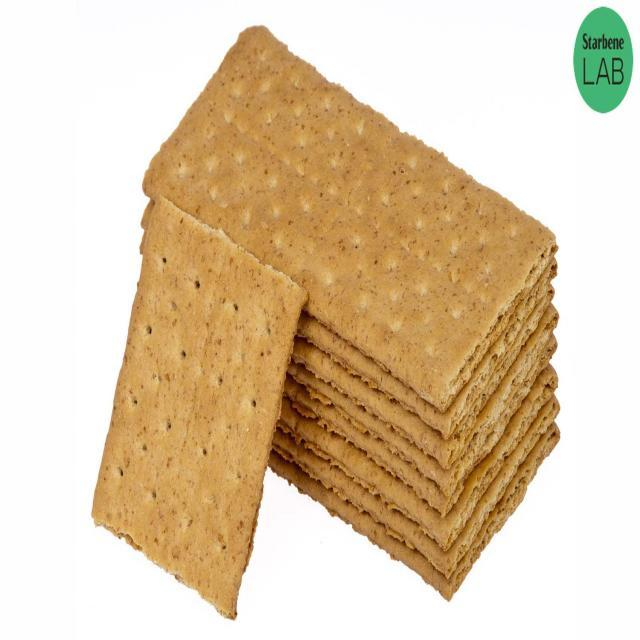Cracker: (85, 192, 313, 612)
